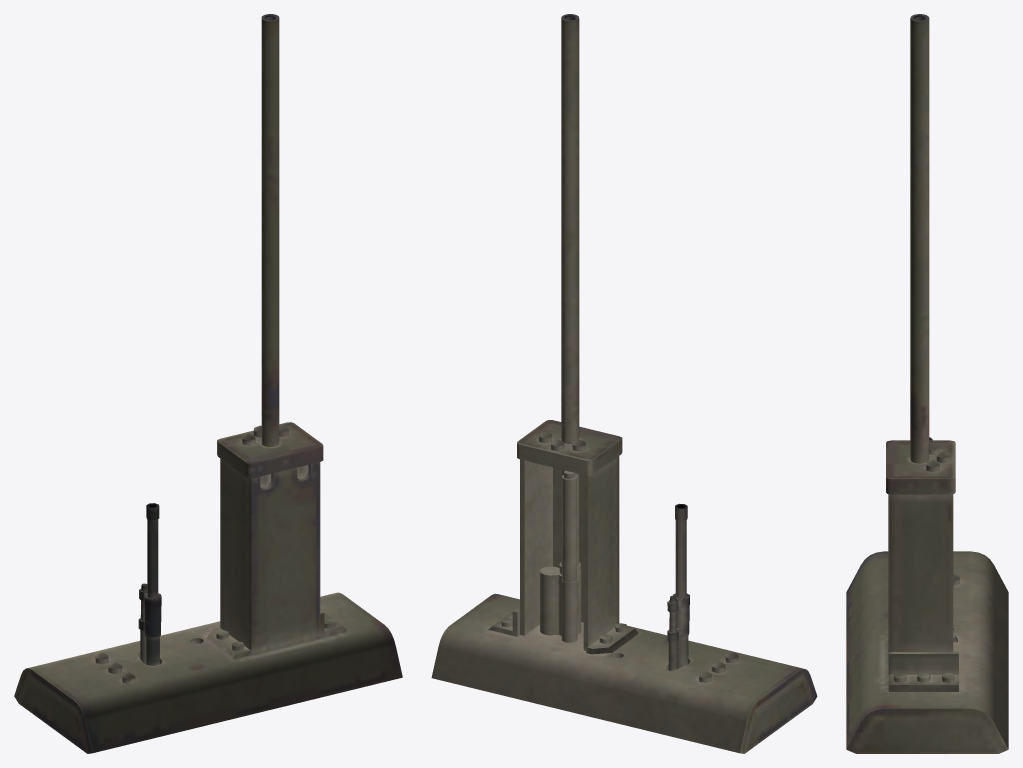
File: Gun_01.glb
The picture shows the model from 3 angles, left to right: view 1: azimuth 30°, elevation 25°; view 2: azimuth 150°, elevation 25°; view 3: azimuth 270°, elevation 25°; orthographic projection. The views are drawn at different scales.
Parts seen in each view (by area): view 1: set_0_group_0; view 2: set_0_group_0; view 3: set_0_group_0.
Boxes of the visible parts, <box> form: set_0_group_0: <box>14,14,402,753</box>; set_0_group_0: <box>431,14,817,753</box>; set_0_group_0: <box>846,14,1008,753</box>.
Size of the model in its own units: 0.673 by 1.37 by 0.2935.
1 material, 1 textured.
